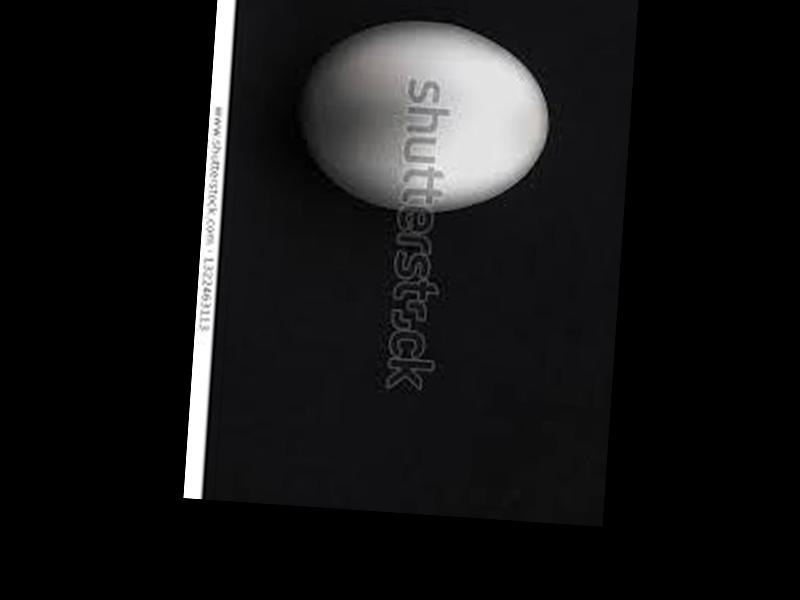Eggs: (296, 11, 557, 215)
